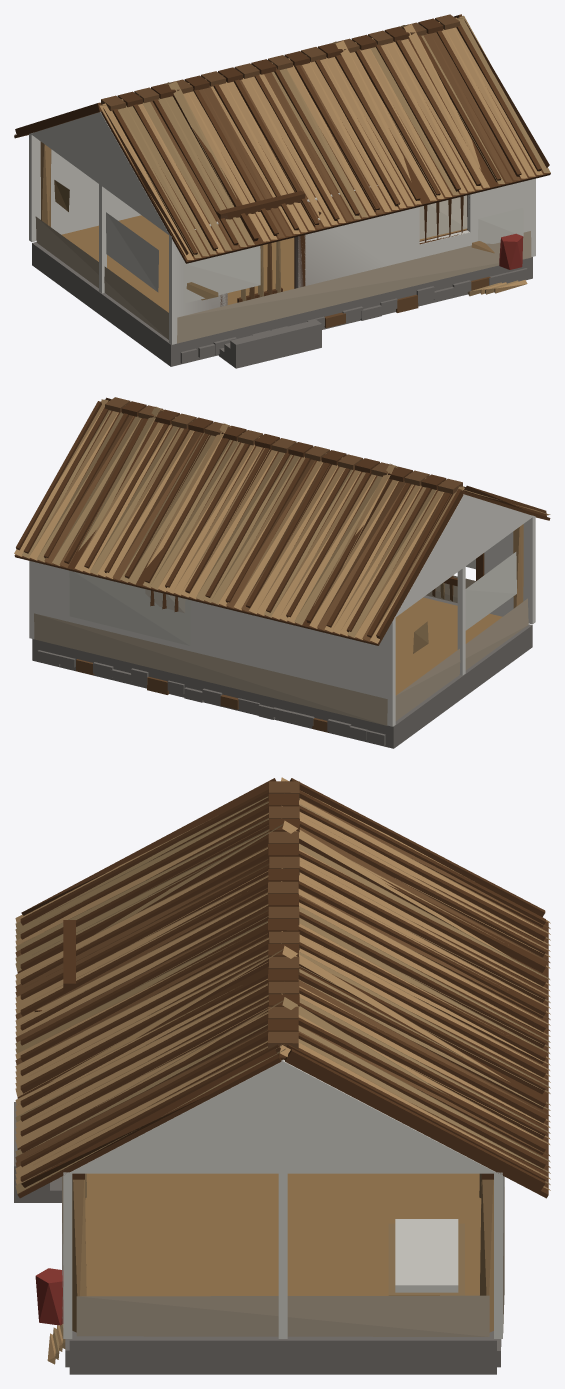
The model's file is lib_house_c1.vc2.glb.
3 views of the same model, one above another, from view 1: azimuth 30°, elevation 25°; view 2: azimuth 150°, elevation 25°; view 3: azimuth 270°, elevation 25° (orthographic). The views are drawn at different scales.
Visible parts, largest first — view 1: lib_house_c1; view 2: lib_house_c1; view 3: lib_house_c1.
Boxes of the visible parts, x1,y1,x2,y2 form: lib_house_c1: [14, 14, 550, 368]; lib_house_c1: [14, 397, 550, 748]; lib_house_c1: [14, 777, 550, 1374].
Bounding box in the file's own units: 7.2 × 4.1 × 5.98.
